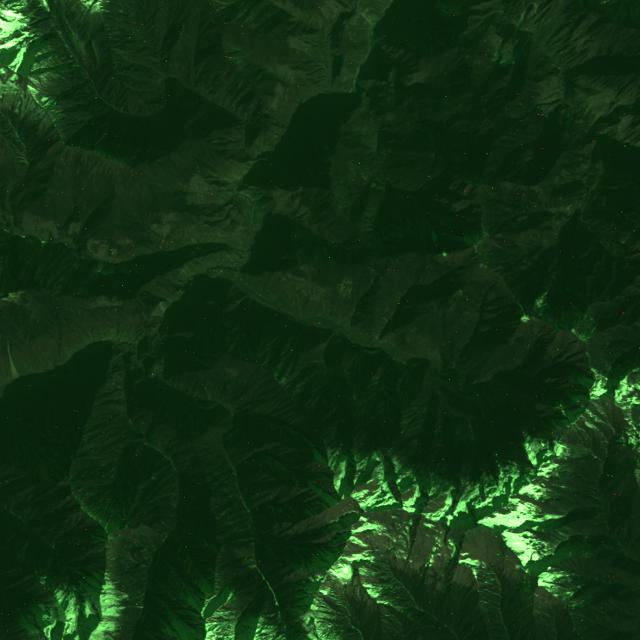landslides: (587, 403, 615, 435), (564, 579, 593, 602), (581, 412, 604, 435), (7, 341, 20, 380), (575, 443, 602, 461), (107, 604, 144, 612), (541, 586, 554, 607), (608, 489, 626, 503), (104, 594, 127, 604), (480, 593, 499, 605), (553, 584, 581, 592), (480, 597, 498, 609), (454, 365, 473, 376), (96, 628, 112, 640), (551, 573, 571, 582), (536, 600, 549, 613), (555, 528, 569, 540), (542, 598, 553, 612), (157, 302, 168, 315), (624, 234, 637, 245), (560, 589, 578, 596), (585, 313, 595, 324), (149, 244, 160, 254), (563, 526, 575, 535)
